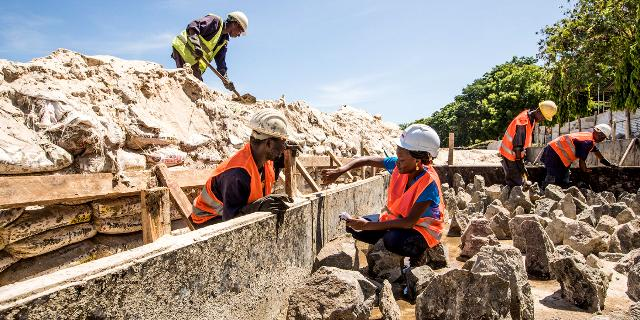helmet: (395, 122, 439, 156), (250, 106, 288, 142), (224, 8, 248, 34), (538, 100, 556, 118), (596, 124, 612, 136)
vest: (190, 152, 272, 228), (392, 168, 444, 246), (176, 21, 226, 69), (499, 115, 537, 162), (554, 131, 596, 163)
